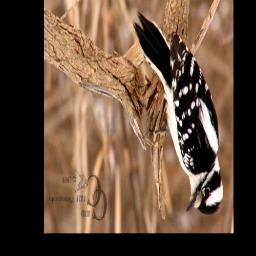Woodpecker: (132, 6, 224, 216)
